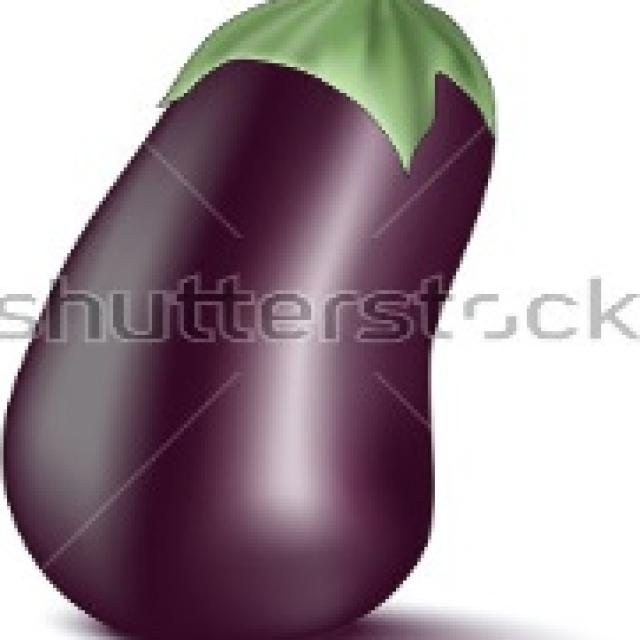eggplant: (0, 0, 491, 632)
